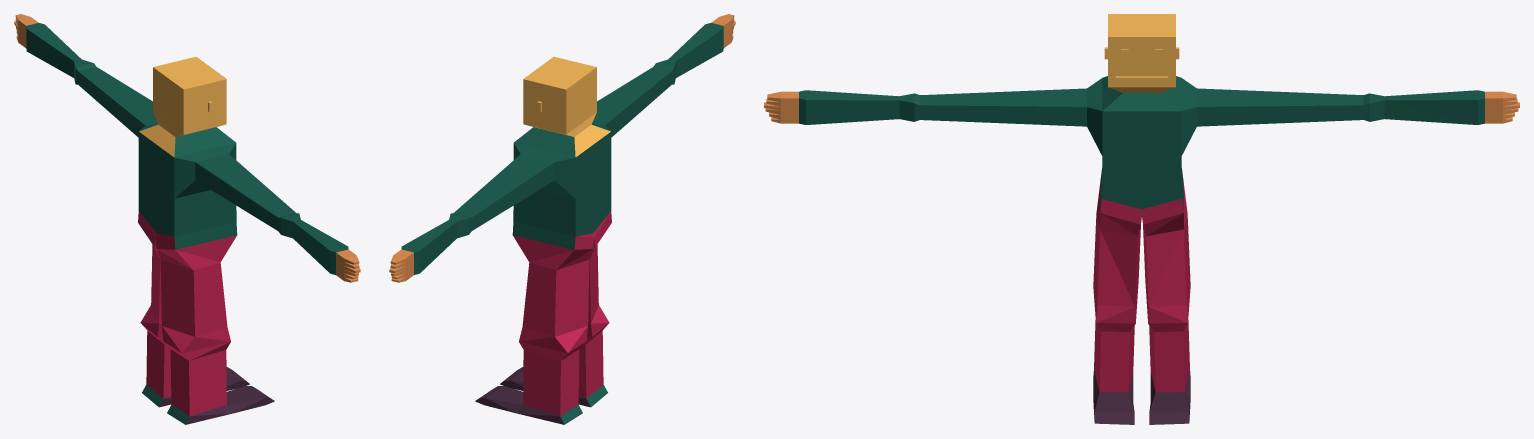
The model's file is postac-parts3.obj.
3 views of the same model, side by side, from view 1: azimuth 30°, elevation 25°; view 2: azimuth 150°, elevation 25°; view 3: azimuth 270°, elevation 25° (orthographic). The views are drawn at different scales.
Visible parts, largest first — view 1: Cube, Cube.003, Cube.001, Cube.004, Cube.002; view 2: Cube, Cube.001, Cube.003, Cube.002, Cube.004; view 3: Cube, Cube.001, Cube.003, Cube.002, Cube.004.
Boxes of the visible parts, box(x1,y1,x2,y2) form: Cube: box(138, 56, 274, 424); Cube.003: box(195, 154, 300, 238); Cube.001: box(74, 59, 157, 137); Cube.004: box(293, 220, 360, 282); Cube.002: box(14, 14, 81, 77); Cube: box(475, 56, 611, 424); Cube.001: box(449, 154, 554, 238); Cube.003: box(592, 59, 675, 137); Cube.002: box(389, 220, 456, 282); Cube.004: box(668, 14, 735, 77); Cube: box(1087, 14, 1196, 424); Cube.001: box(1197, 88, 1384, 126); Cube.003: box(899, 88, 1086, 126); Cube.002: box(1384, 90, 1519, 124); Cube.004: box(764, 90, 899, 124).
Size of the model in its own units: 3.18 by 10.23 by 19.12.
Materials: 1 (1 with a texture image).
